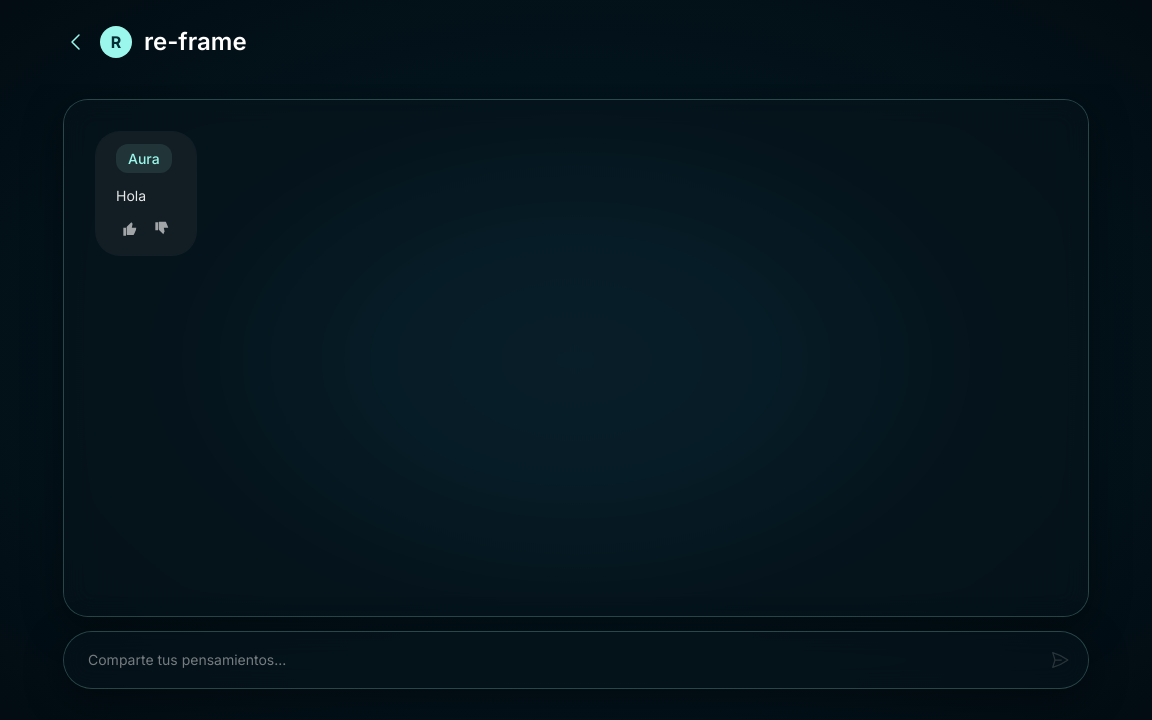
Test: ChatClient - Inline Feedback › handles Spanish locale correctly
This screenshot has width=1152, height=720.
expect the text "Hola" is shown: met, box [116,187,146,204]
Click thumbs up
Click the button named "Thumbs up": (130, 229) [116,215,144,243]
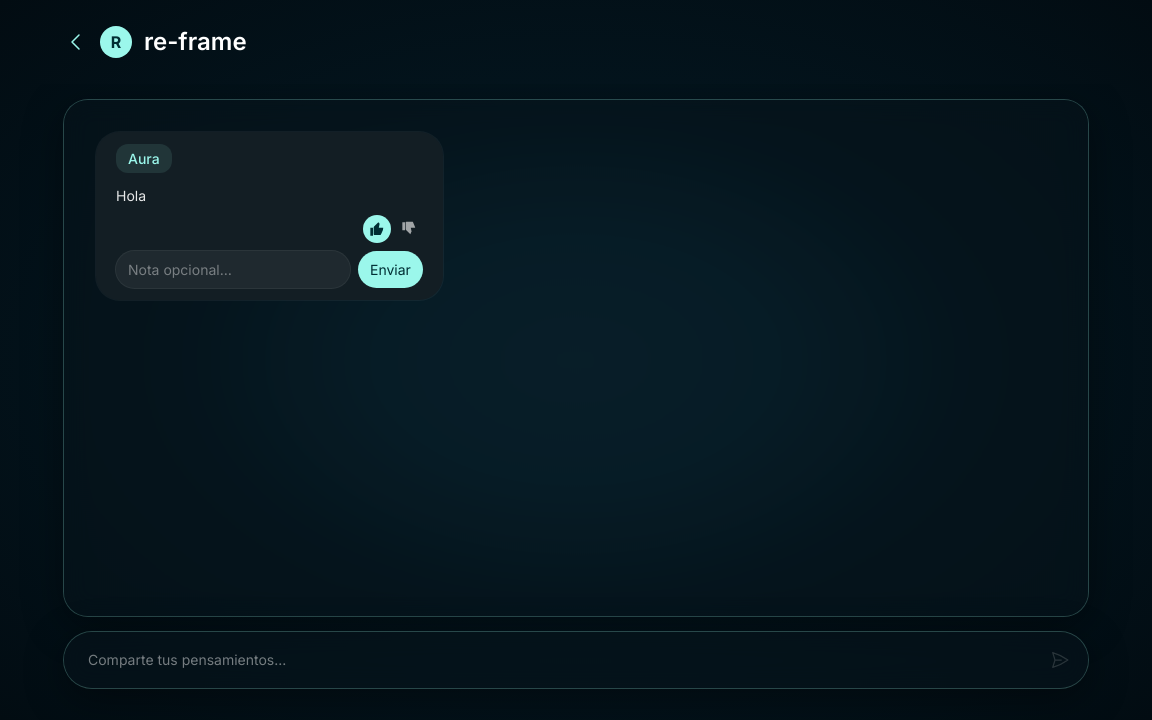
expect the field with placeholder "Nota opcional…" is shown: met, box [116,251,350,288]
expect the button "Enviar" is shown: met, box [358,251,423,288]
